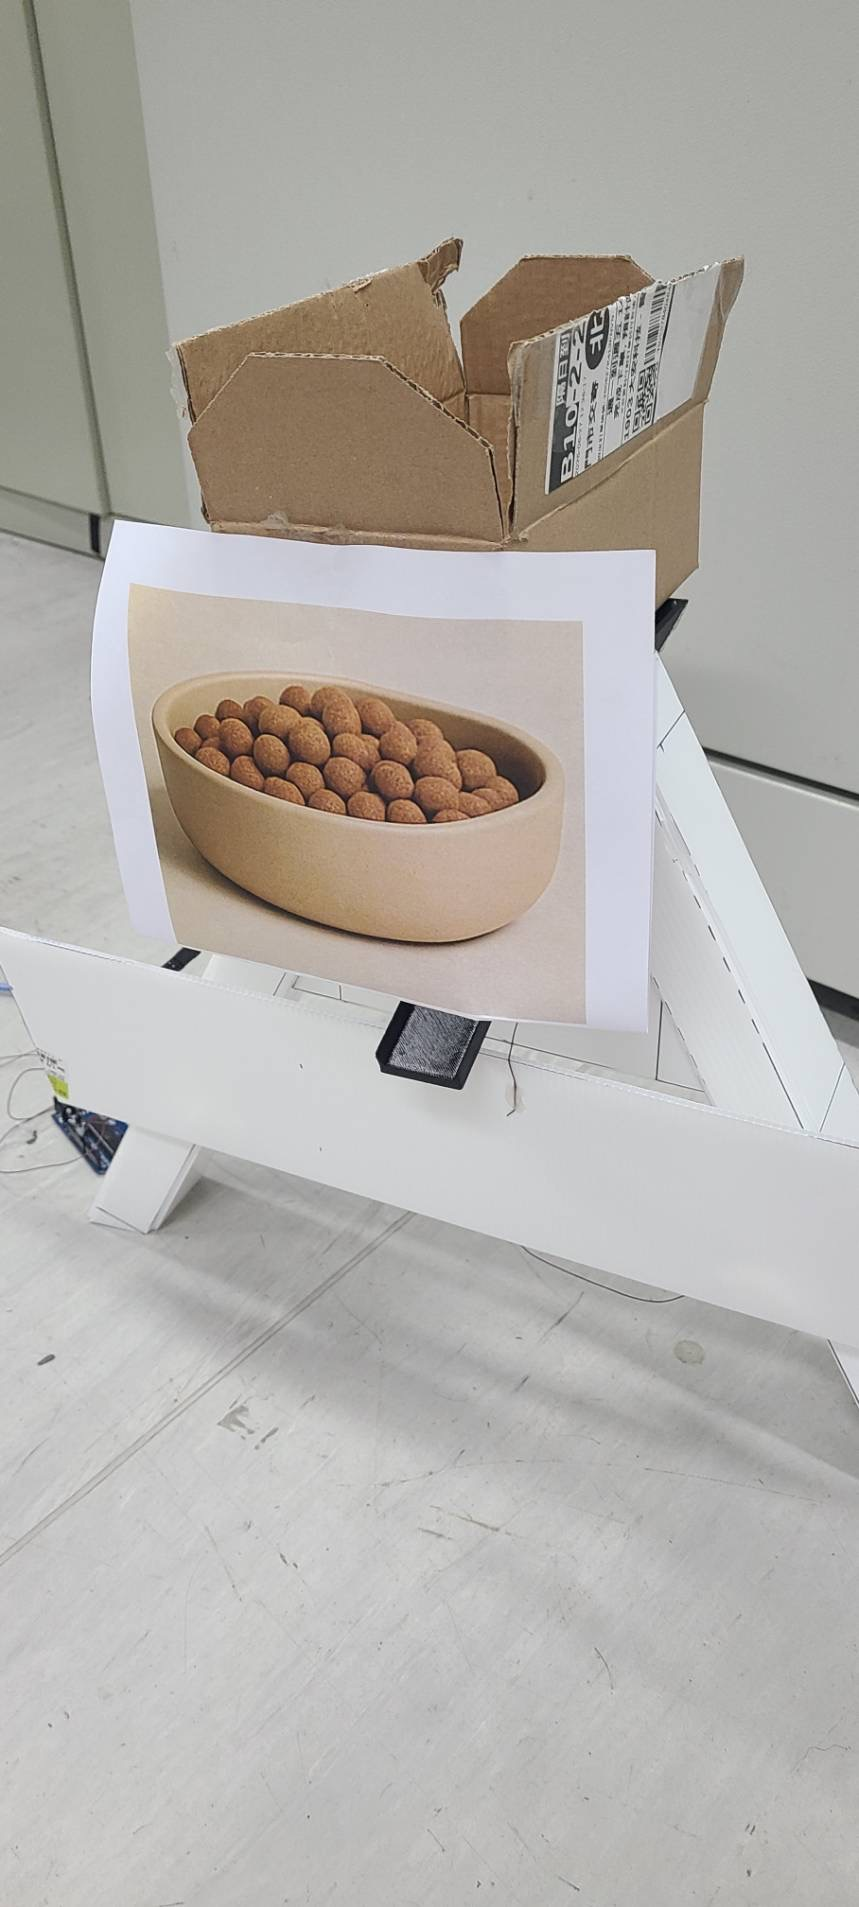machine: (151, 671, 567, 947)
